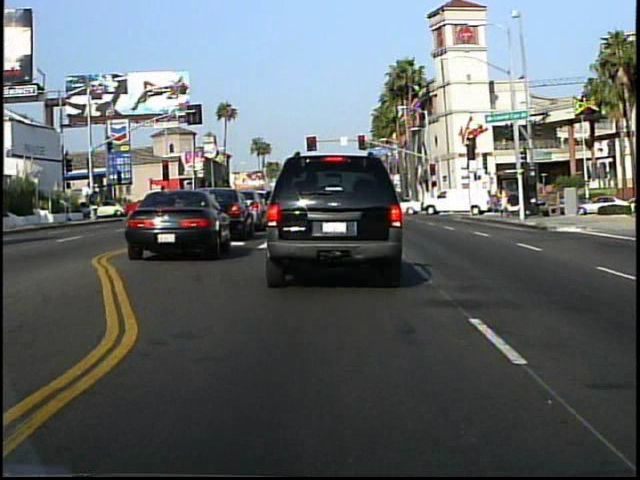person: (496, 184, 513, 221)
